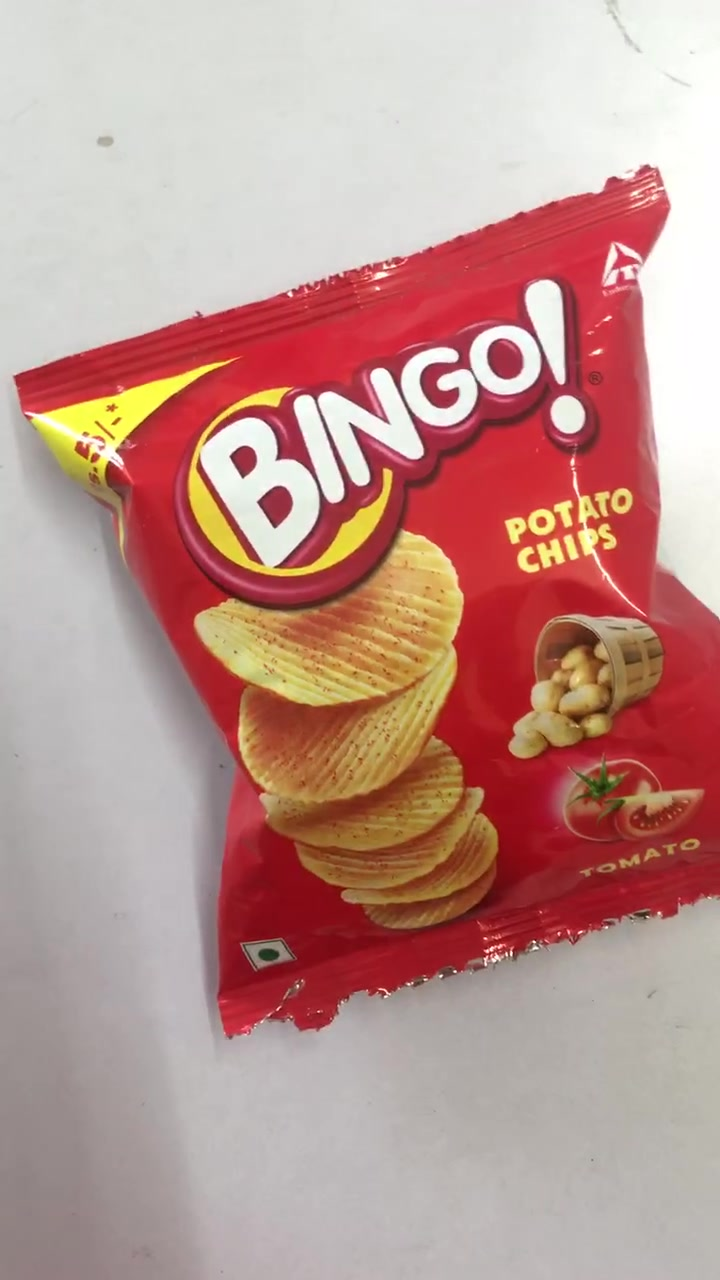Bingo: (69, 262, 720, 970)
